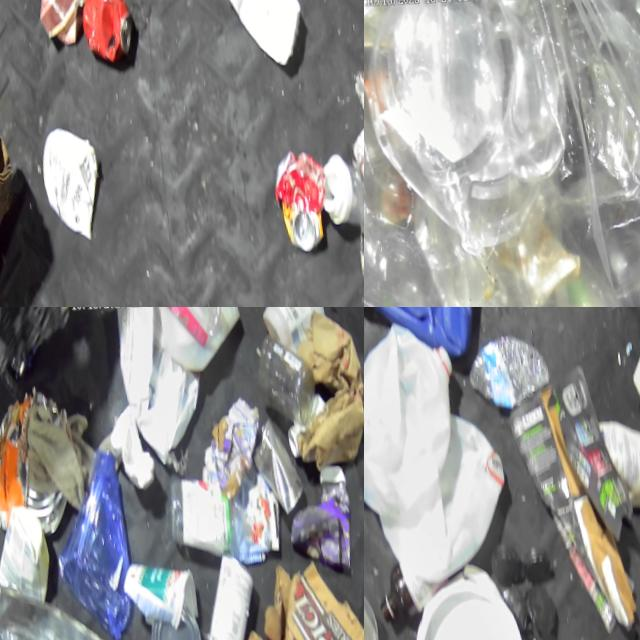can: (0, 382, 77, 536), (0, 569, 125, 640), (188, 540, 267, 640), (268, 138, 330, 251), (247, 408, 307, 511), (216, 0, 307, 67), (76, 0, 137, 67), (148, 596, 206, 640)
milk_jug: (365, 397, 518, 588), (364, 307, 470, 522), (128, 359, 207, 464), (153, 307, 246, 369), (0, 499, 54, 603), (256, 307, 329, 344)
non_white_jug: (364, 307, 503, 366)
plastic_bottle: (462, 324, 553, 409)
